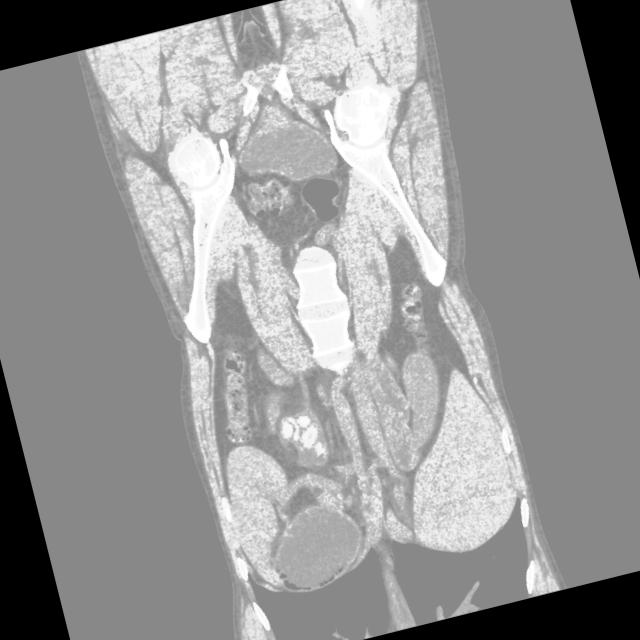STONE: (92, 131, 557, 543)
